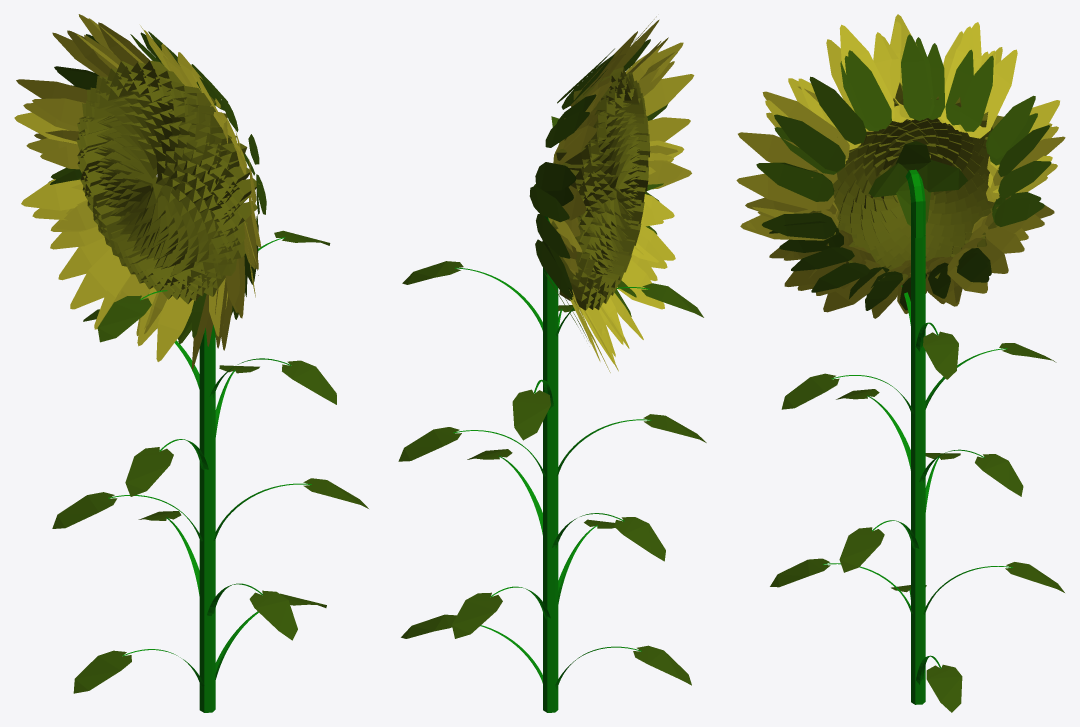
Rendered from flower2.fbx.
3 renders of one model, left to right at view 1: azimuth 30°, elevation 25°; view 2: azimuth 150°, elevation 25°; view 3: azimuth 270°, elevation 25°, orthographic. The views are drawn at different scales.
Visible parts, largest first — view 1: Sunflow01; view 2: Sunflow01; view 3: Sunflow01.
Part boxes in pixels (box(x1,y1,x2,y2)): Sunflow01: box(14, 14, 368, 712); Sunflow01: box(398, 16, 706, 712); Sunflow01: box(736, 14, 1065, 712).
Size of the model in its own units: 167 by 409 by 187.
